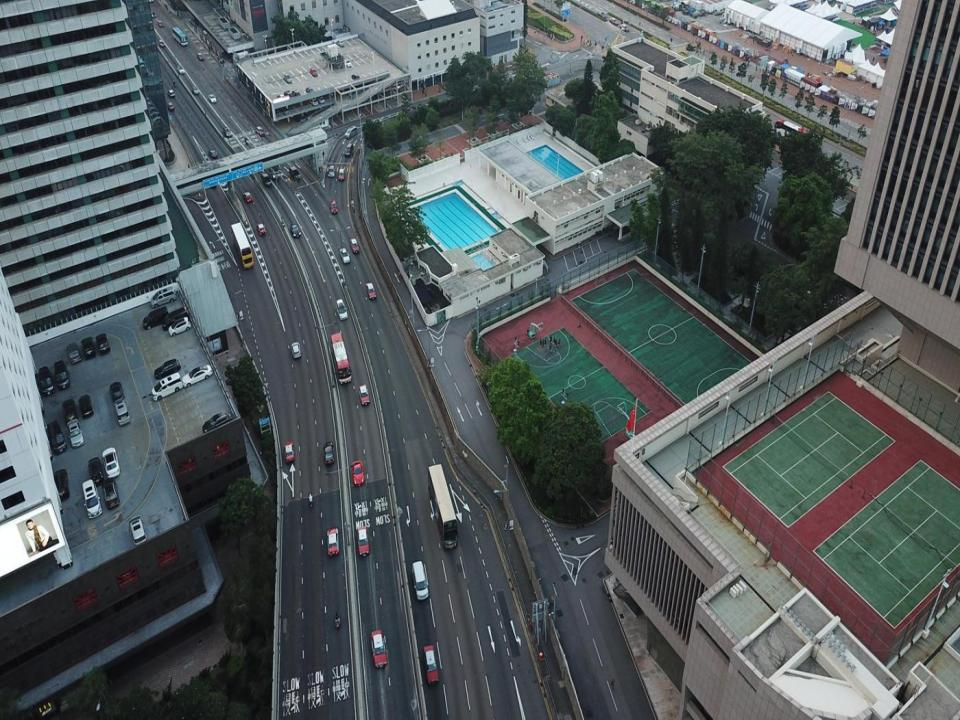bus: (428, 463, 459, 550), (330, 332, 352, 384), (231, 222, 254, 269), (774, 119, 811, 143), (264, 153, 280, 180), (172, 26, 188, 46)
car: (82, 479, 102, 519), (182, 365, 214, 388), (202, 411, 232, 434), (370, 630, 388, 667), (101, 447, 120, 478), (424, 645, 439, 684), (154, 358, 181, 379), (66, 417, 84, 448), (129, 516, 147, 546), (102, 478, 119, 509), (38, 366, 54, 395), (54, 361, 70, 389), (114, 398, 130, 425), (62, 398, 79, 423), (357, 526, 370, 558), (168, 317, 191, 335), (88, 457, 103, 484), (78, 393, 93, 418), (66, 342, 82, 364), (327, 527, 339, 556), (96, 332, 110, 356), (351, 461, 364, 486), (110, 382, 124, 405), (82, 336, 96, 358), (322, 441, 334, 464), (336, 299, 348, 320), (359, 384, 369, 406), (366, 281, 376, 300), (285, 441, 294, 462), (339, 248, 350, 264), (291, 342, 301, 359), (350, 238, 360, 253), (291, 224, 301, 237), (208, 174, 216, 190), (243, 191, 253, 203), (257, 222, 266, 235), (331, 199, 338, 214), (406, 106, 418, 113), (338, 169, 345, 181), (328, 166, 335, 178), (167, 102, 175, 112), (223, 127, 231, 137), (379, 115, 390, 122), (256, 126, 264, 135), (208, 149, 216, 158), (284, 74, 292, 83), (292, 89, 301, 97), (284, 90, 292, 99), (309, 98, 318, 106), (597, 10, 606, 18), (208, 93, 215, 103), (281, 106, 289, 114), (610, 17, 618, 25), (310, 68, 317, 77), (351, 73, 360, 80), (337, 39, 344, 47), (317, 95, 324, 103), (300, 116, 308, 123), (621, 25, 629, 32), (158, 20, 164, 28), (197, 52, 203, 60), (178, 66, 184, 74), (168, 89, 174, 97), (192, 86, 198, 94), (306, 87, 314, 93), (277, 94, 285, 100), (159, 39, 164, 47), (150, 11, 156, 17), (346, 58, 350, 66), (150, 0, 154, 4)
van: (152, 372, 182, 401), (46, 420, 68, 454), (162, 306, 190, 331), (412, 561, 428, 599), (143, 306, 168, 330), (151, 286, 177, 308), (53, 469, 70, 499), (289, 165, 301, 181), (260, 172, 272, 187), (345, 125, 357, 138), (344, 144, 353, 157), (715, 8, 720, 15)
